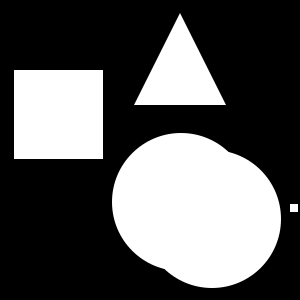circle: (14, 70, 103, 159), (290, 204, 298, 212)
rectangle: (143, 150, 281, 288), (112, 133, 250, 271)
triangle: (134, 13, 226, 105)
